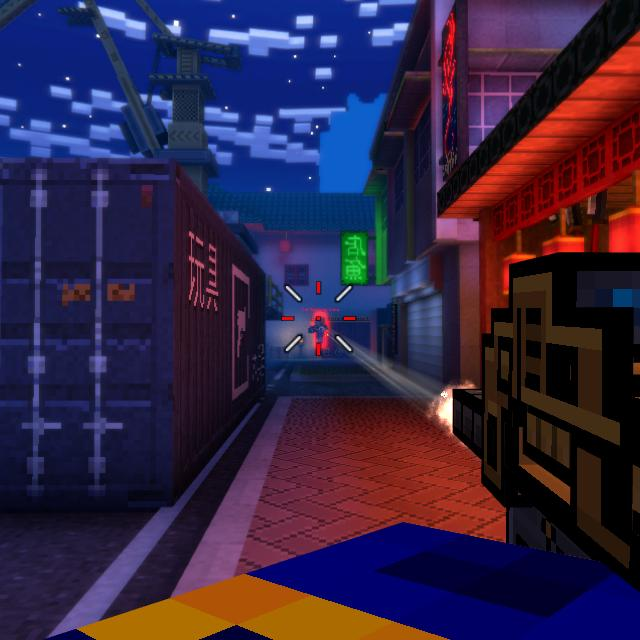Enemy: (310, 316, 328, 344)
